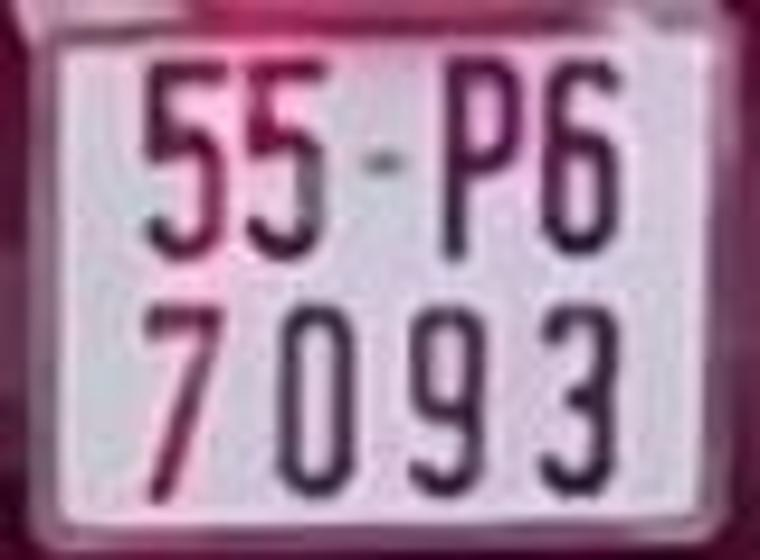-: (361, 124, 414, 189)
0: (283, 296, 362, 500)
3: (534, 305, 624, 511)
5: (133, 52, 230, 263), (239, 54, 333, 262)
6: (534, 46, 622, 255)
7: (146, 301, 248, 518)
9: (401, 296, 491, 506)
P: (432, 42, 531, 266)
